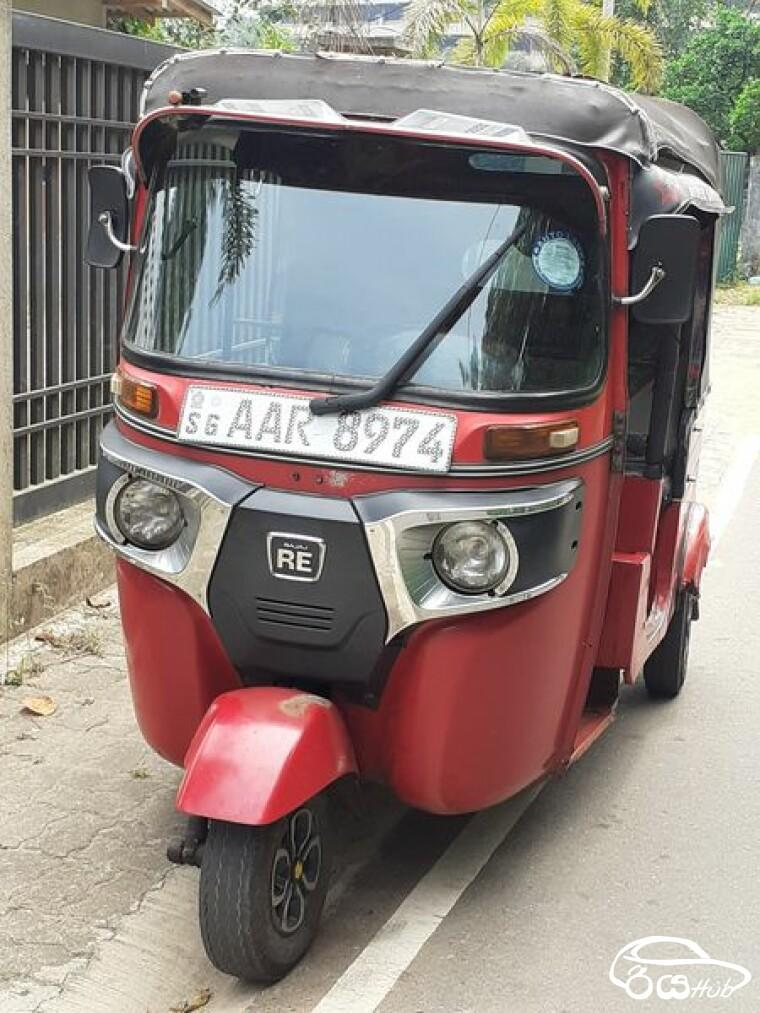threewheel: (84, 48, 729, 981)
